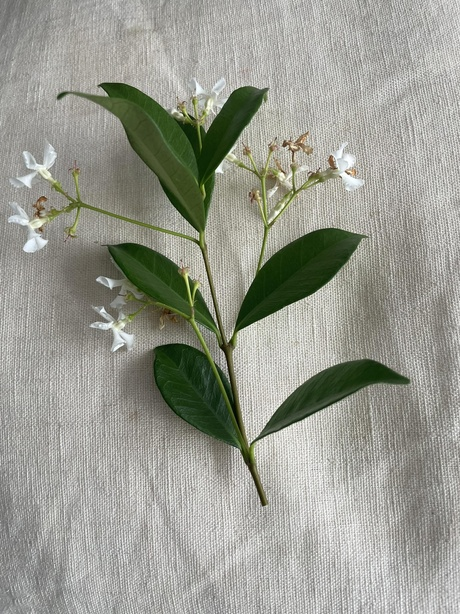leaf: (235, 228, 368, 327), (145, 336, 251, 451), (99, 244, 221, 330)
